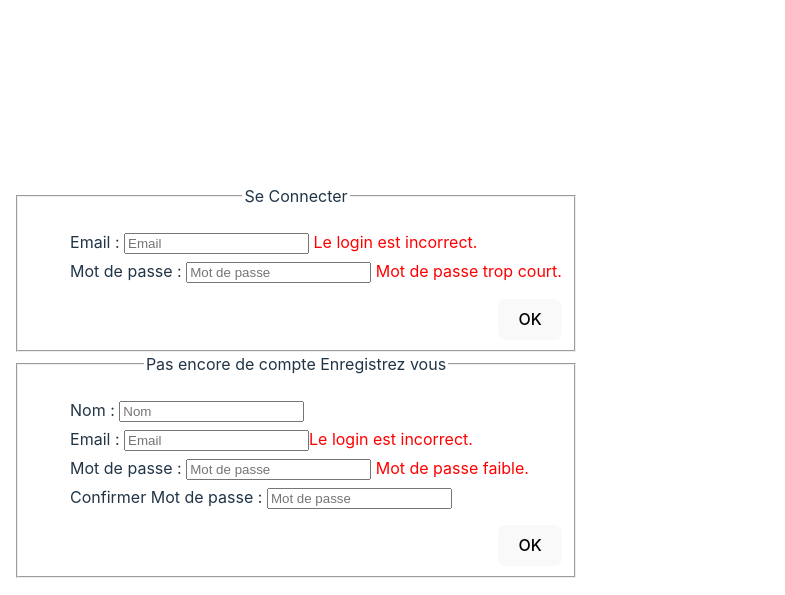
it: Scenario de test › Se connecte avec des informations correctes
Type "NouvelUtilisateur@example.com" into the field with placeholder "Email" below "Se Connecter" at [217, 244], box 124,233 -> 309,254
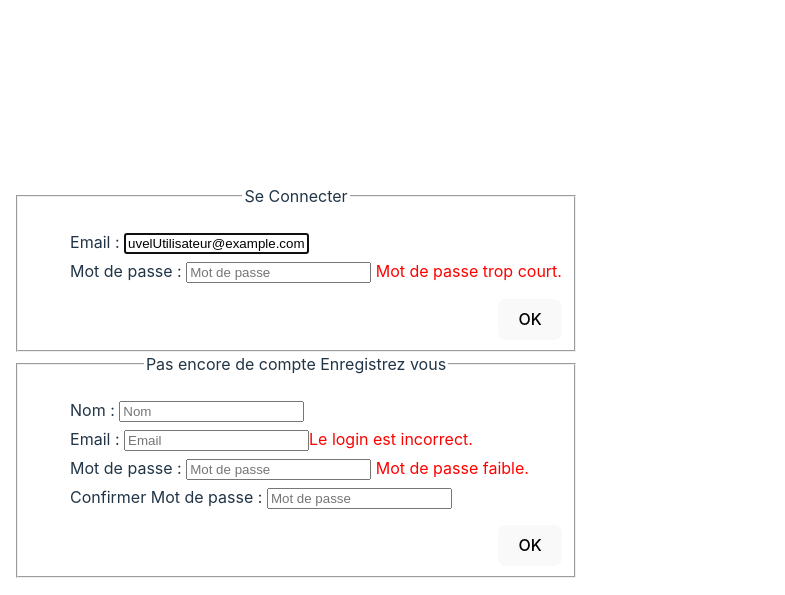
Type "MotDePasseFort123!" into the password field with placeholder "Mot de passe" next to "Mot de passe trop court." at [279, 273], box 186,262 -> 371,283
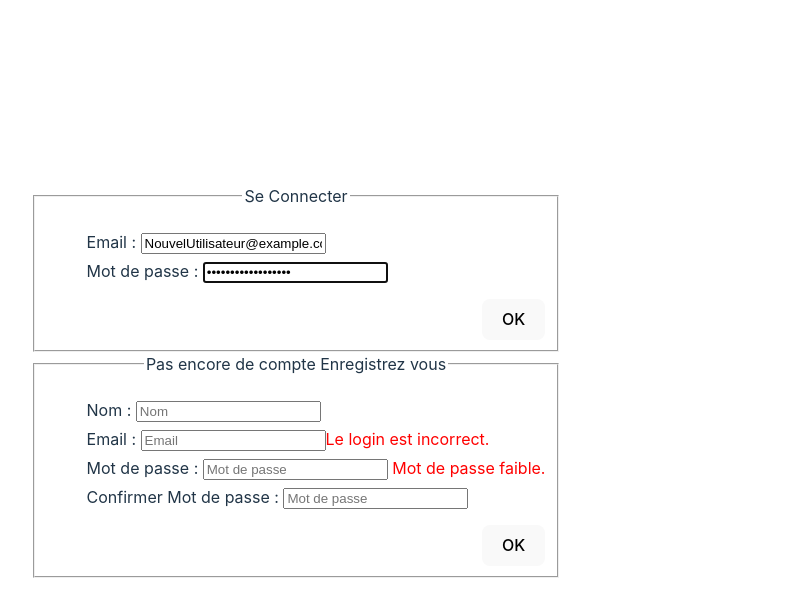
Click the button "OK" below "Se Connecter" at [514, 320], box 482,299 -> 546,340
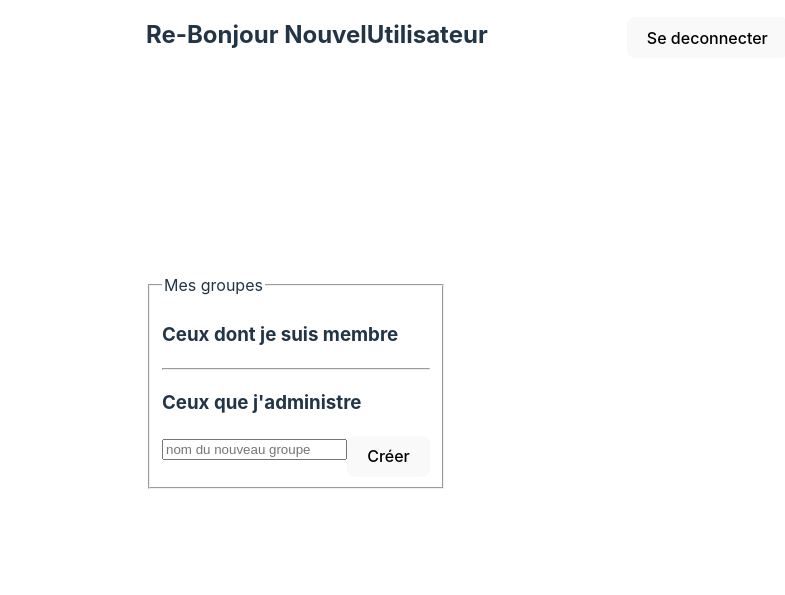
Expected: the heading "Re-Bonjour NouvelUtilisateur" is shown, 146,17 -> 488,53
